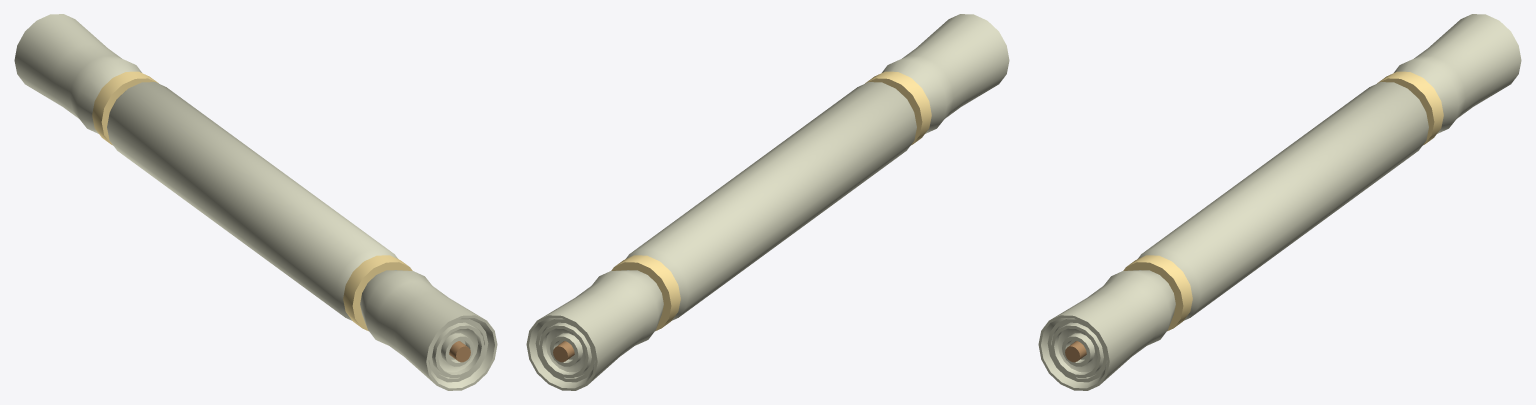
Rendered from żagiel.fbx.
3 renders of one model, left to right at view 1: azimuth 30°, elevation 25°; view 2: azimuth 150°, elevation 25°; view 3: azimuth 330°, elevation 25°, orthographic.
Parts seen in each view (by area): view 1: żagiel; view 2: żagiel; view 3: żagiel.
Part boxes in pixels (box(x1,y1,x2,y2)): żagiel: box(14, 14, 497, 390); żagiel: box(526, 14, 1009, 390); żagiel: box(1038, 14, 1521, 390).
Size of the model in its own units: 20 by 20 by 202.
